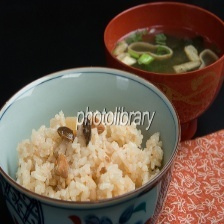rice: (12, 106, 170, 206)
